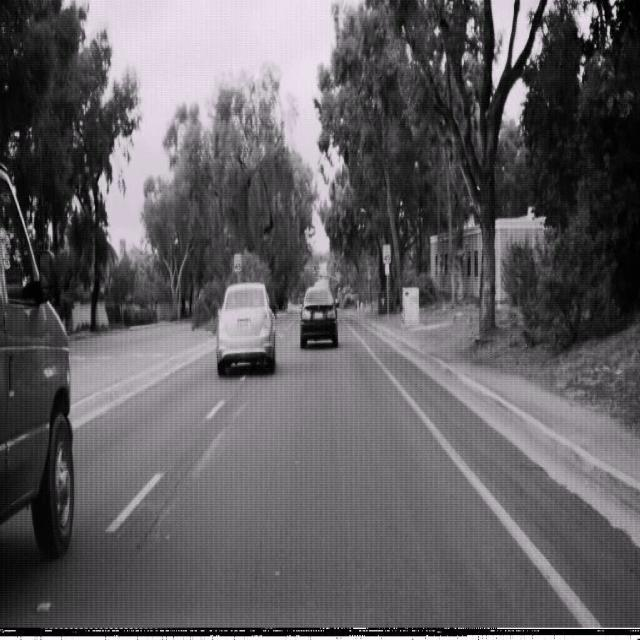speedLimit45: (382, 243, 392, 265), (233, 253, 241, 272)
